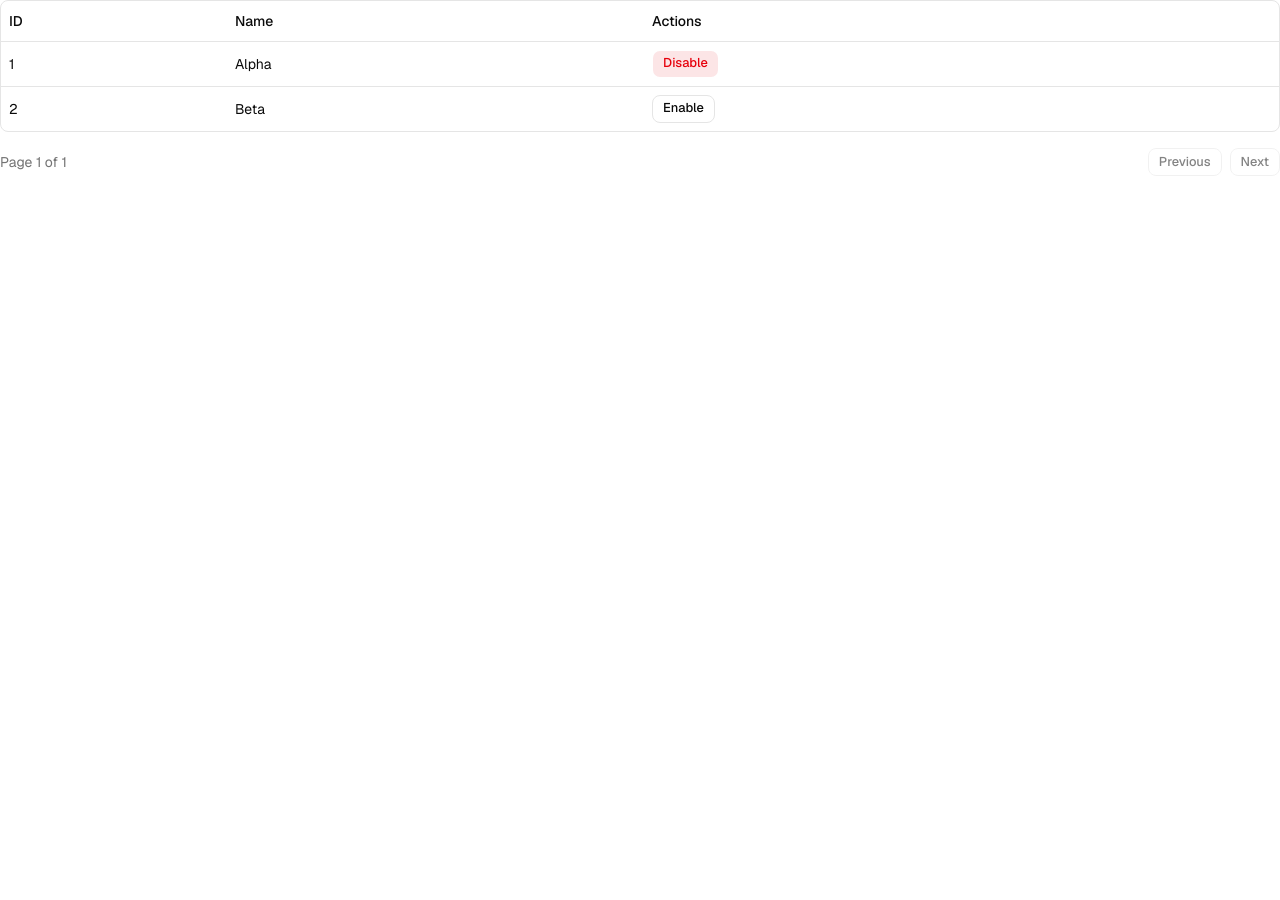
Test: AdminTable › opens confirm dialog when Disable is clicked
Click the button "Disable".
click(685, 64)  # box [652,50,719,78]
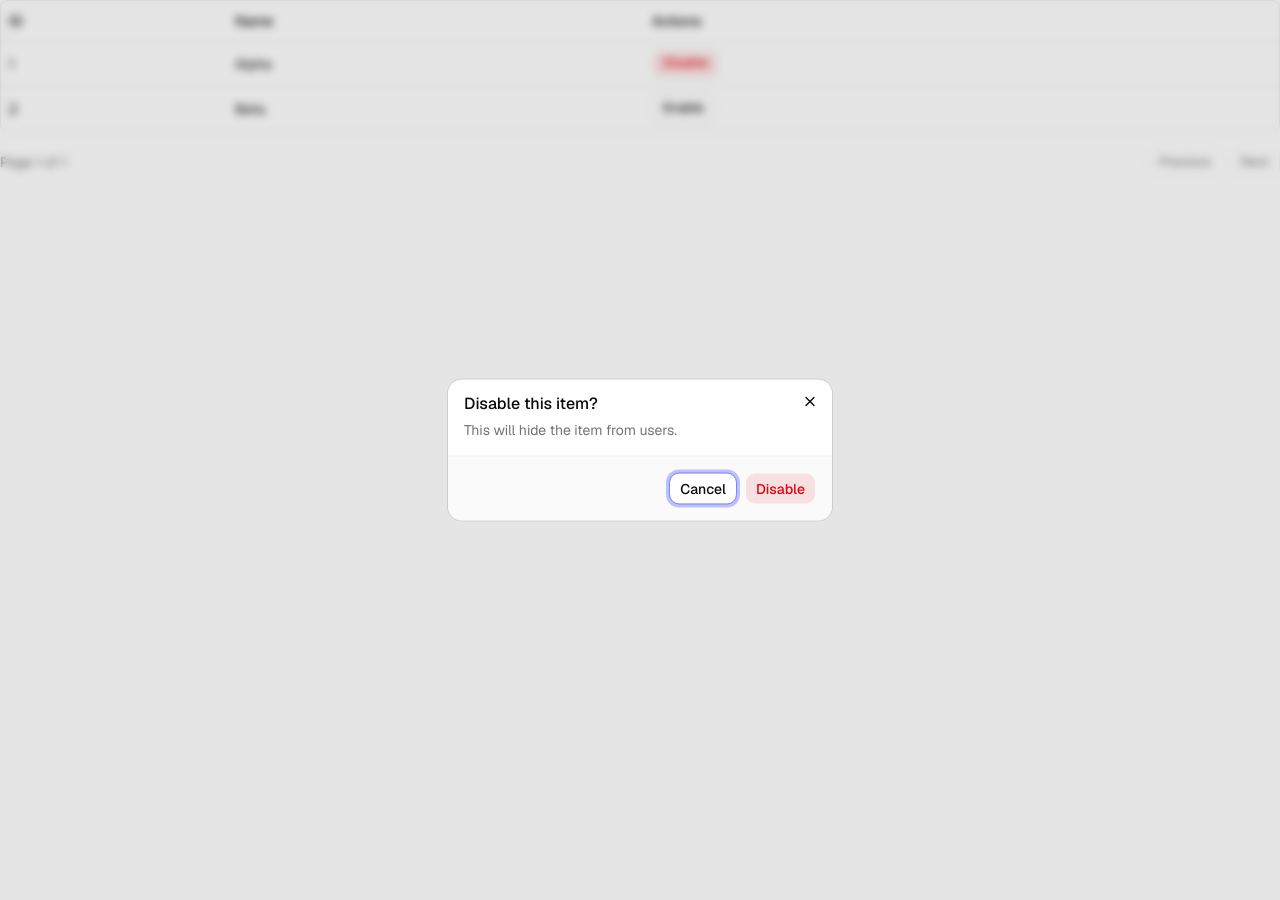
Expected: the heading "Disable this item?" is shown, [464,392,598,414]
